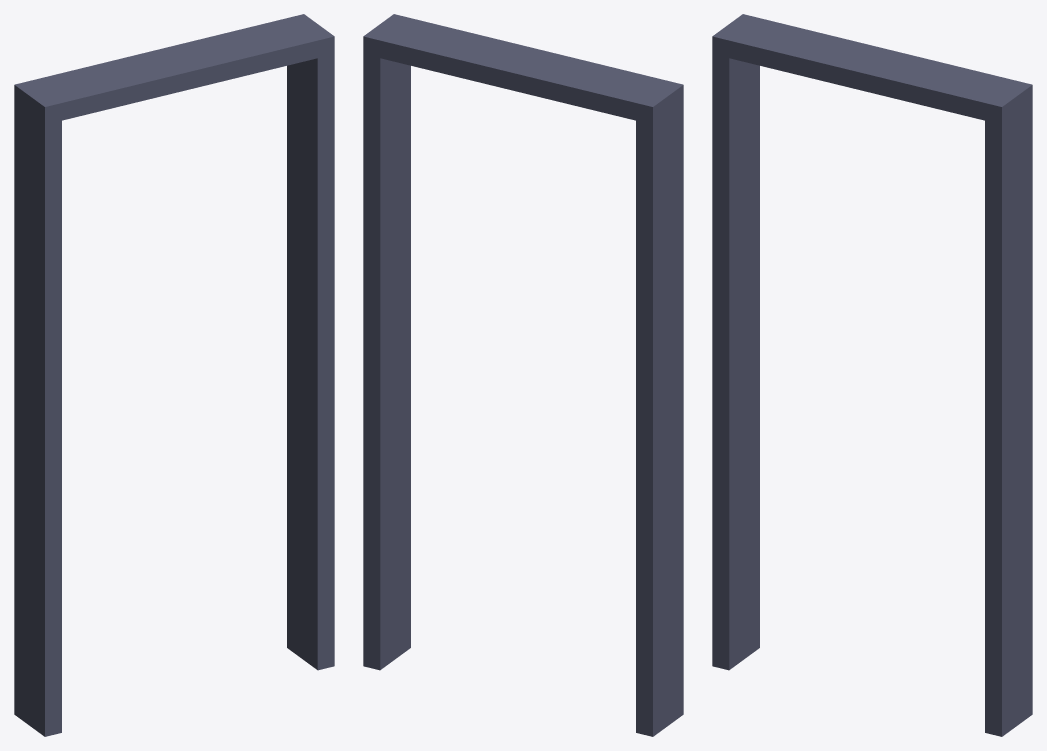
The model's file is DoorFrame.fbx.
3 renders of one model, left to right at view 1: azimuth 30°, elevation 25°; view 2: azimuth 150°, elevation 25°; view 3: azimuth 330°, elevation 25°, orthographic.
Parts seen in each view (by area): view 1: doorwayFront(Clone); view 2: doorwayFront(Clone); view 3: doorwayFront(Clone).
Boxes of the visible parts, <box> form: doorwayFront(Clone): <box>14,14,334,736</box>; doorwayFront(Clone): <box>363,14,683,736</box>; doorwayFront(Clone): <box>712,14,1032,736</box>.
Bounding box in the file's own units: 194 × 404 × 35.64.
